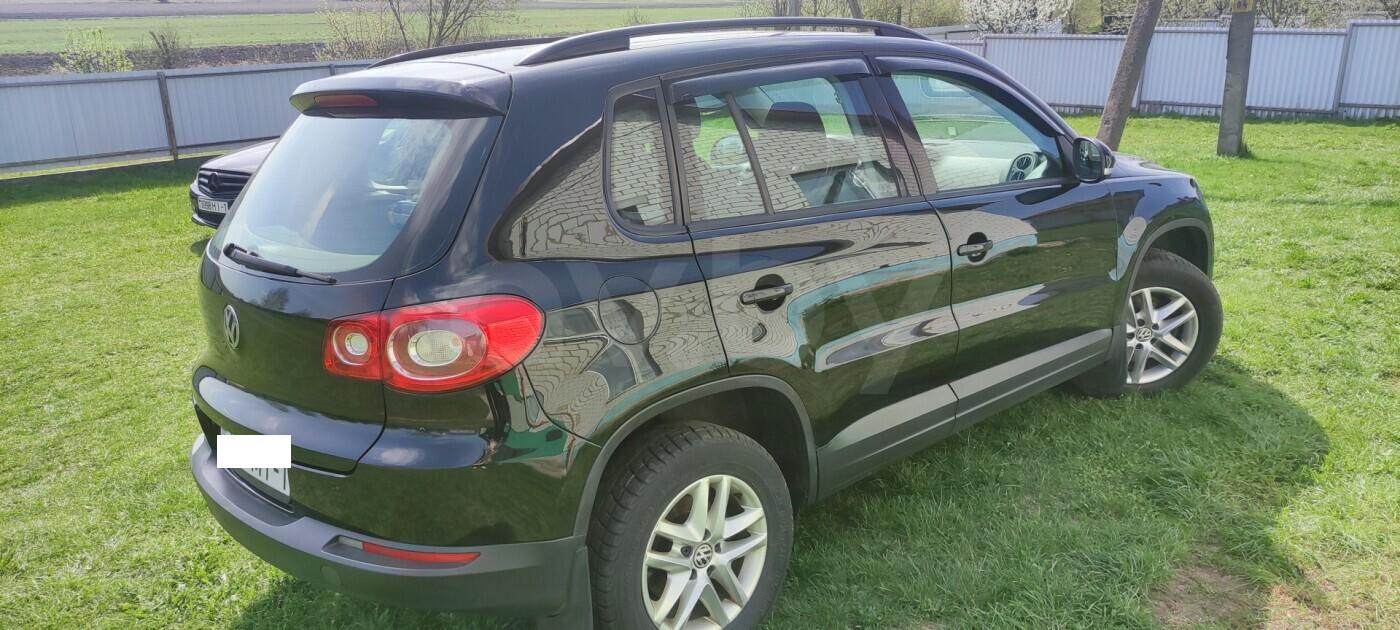Tiguan_2007-2011: (185, 24, 1221, 630)
